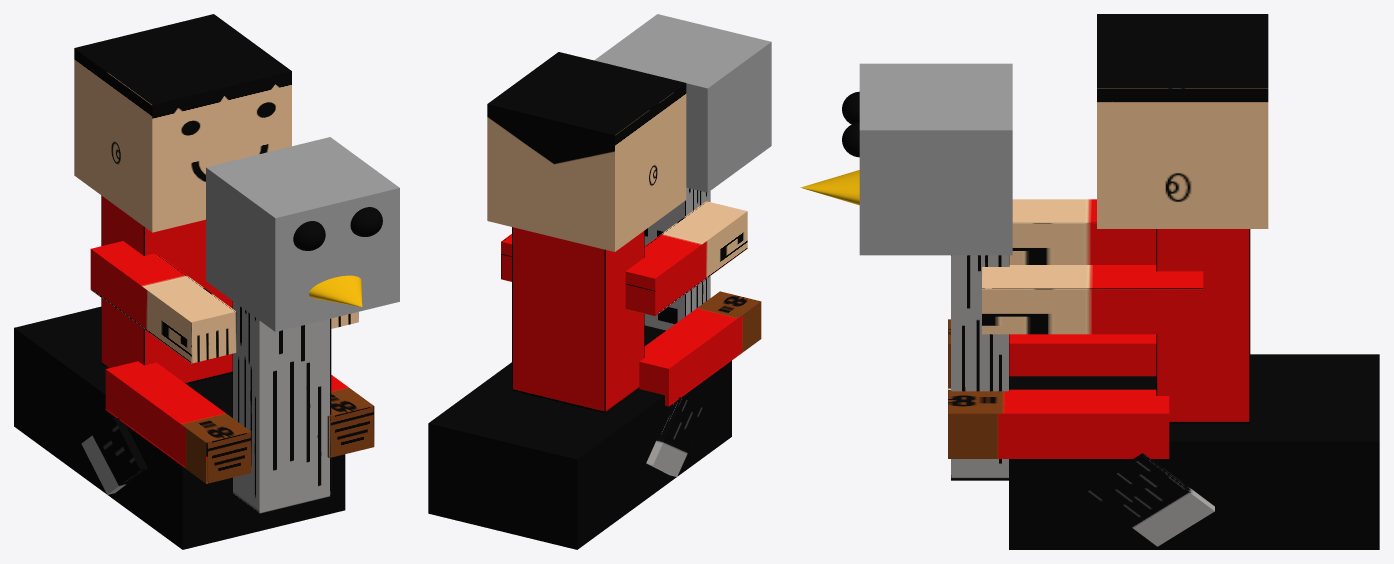
Rendered from O&Hbody.FBX.
3 views of the same model, side by side, from view 1: azimuth 30°, elevation 25°; view 2: azimuth 150°, elevation 25°; view 3: azimuth 270°, elevation 25° (orthographic). The views are drawn at different scales.
Parts seen in each view (by area): view 1: face (×2), body, neck, Box030, Box020, human, WingRight, Box029, beak, eyeRight, eyeLeft; view 2: face (×2), body, human, Box020, Box030, WingRight, neck, Box028; view 3: face (×2), body, Box029, human, Box028, Box020, neck, Box030, WingLeft, beak.
Part boxes in pixels (<box>): face (×2): <box>74,14,399,331</box>; body: <box>14,306,345,549</box>; neck: <box>232,301,331,513</box>; Box030: <box>105,361,251,483</box>; Box020: <box>90,241,236,363</box>; human: <box>101,195,232,384</box>; WingRight: <box>81,417,147,494</box>; Box029: <box>327,375,374,457</box>; beak: <box>309,275,362,306</box>; eyeRight: <box>350,207,382,236</box>; eyeLeft: <box>293,221,325,250</box>; face (×2): <box>487,14,771,251</box>; body: <box>428,325,731,549</box>; human: <box>512,227,644,413</box>; Box020: <box>625,201,747,316</box>; Box030: <box>639,291,761,406</box>; WingRight: <box>646,397,706,476</box>; neck: <box>644,187,710,330</box>; Box028: <box>501,234,511,281</box>; face (×2): <box>859,14,1268,255</box>; body: <box>1009,354,1379,549</box>; Box029: <box>948,389,1169,458</box>; human: <box>1156,229,1250,423</box>; Box028: <box>982,265,1203,334</box>; Box020: <box>1009,199,1156,264</box>; neck: <box>951,255,1009,480</box>; Box030: <box>948,319,1156,388</box>; WingLeft: <box>1085,453,1214,546</box>; beak: <box>800,170,859,205</box>.
Size of the model in its own units: 1.14 by 2.5 by 2.9.
9 materials, 9 textured.
